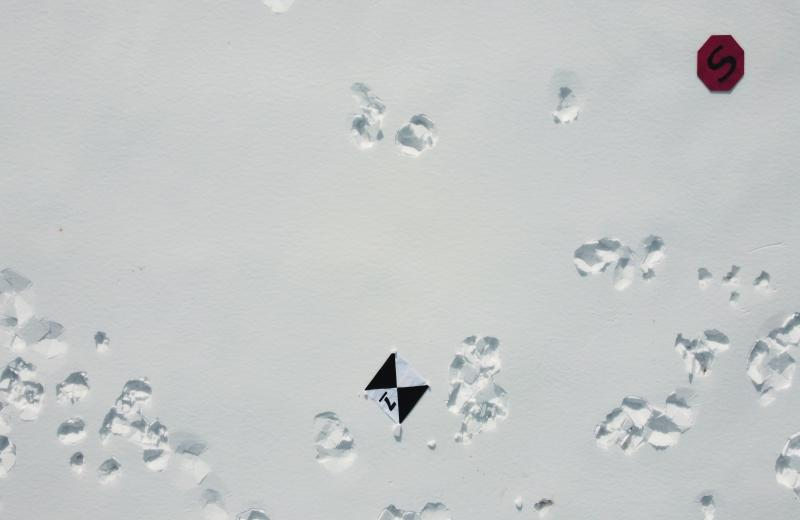Octagon: (692, 32, 750, 99)
